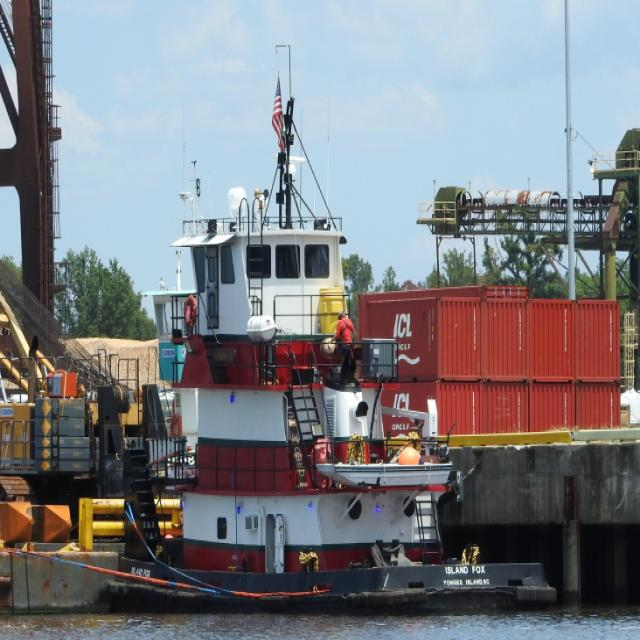tugboat: (117, 153, 563, 624)
